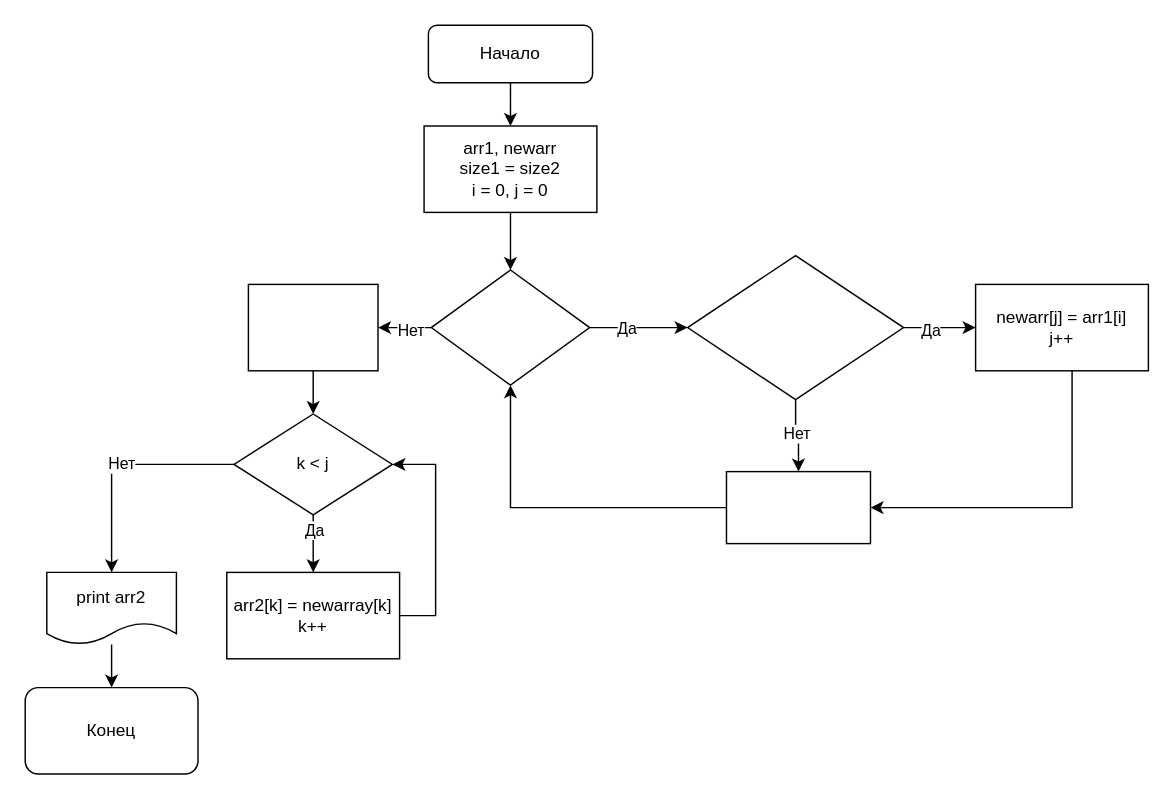
Image size: 1174x799. Some labels were removed from this diagram. Each missing label, with the box of its shape:
arr1[i].Length <= 3: (686, 254, 904, 400)
arr2 k = 0: (247, 283, 378, 371)
i < size1: (430, 269, 590, 385)
i = i+1: (725, 470, 870, 544)
